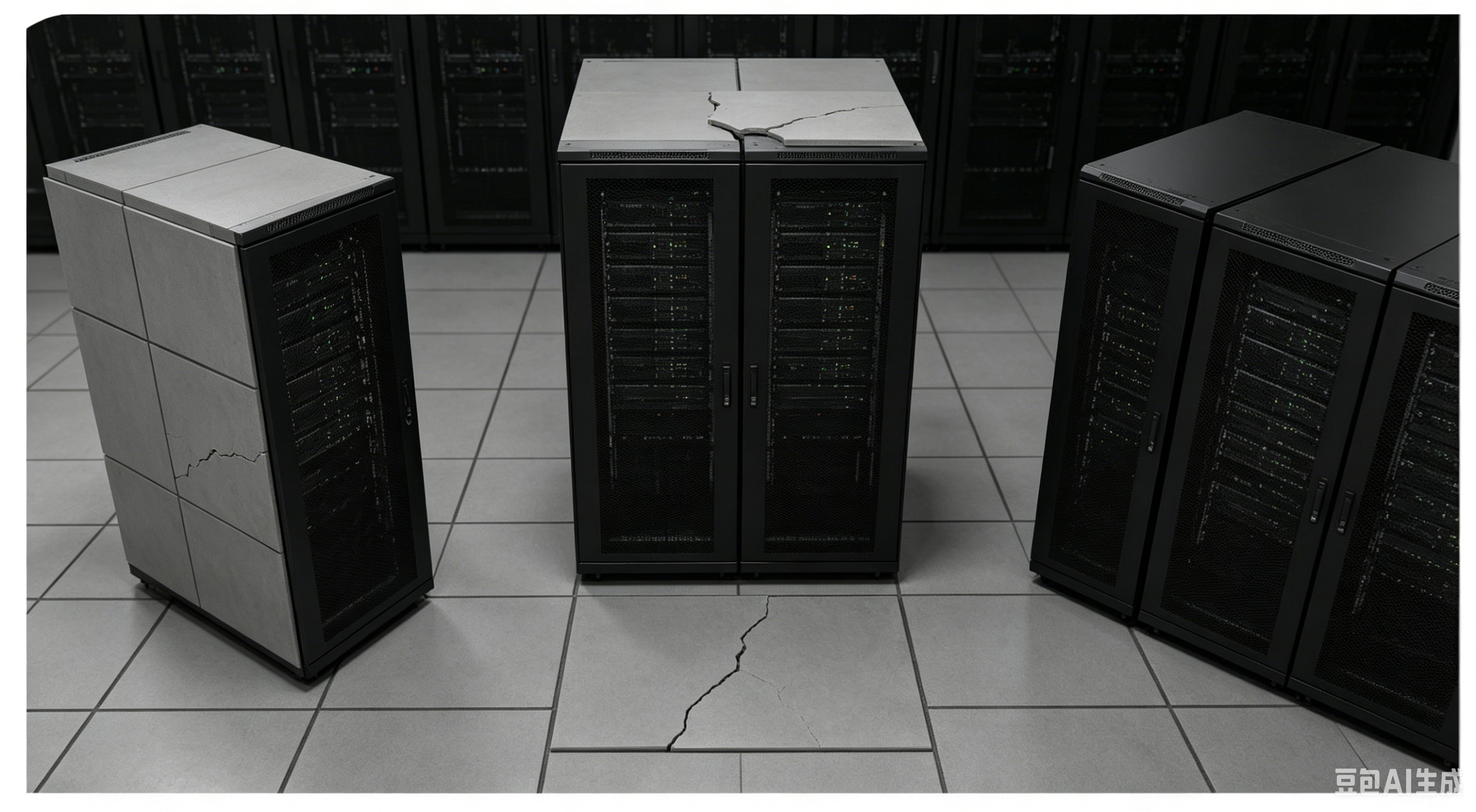floor_defect: (165, 421, 266, 487), (668, 663, 724, 752), (727, 599, 776, 685)
